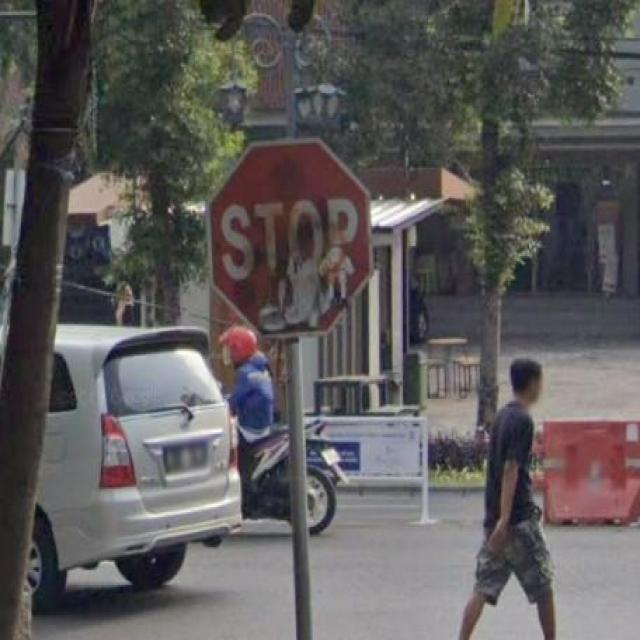traffic sign: (209, 136, 372, 336)
